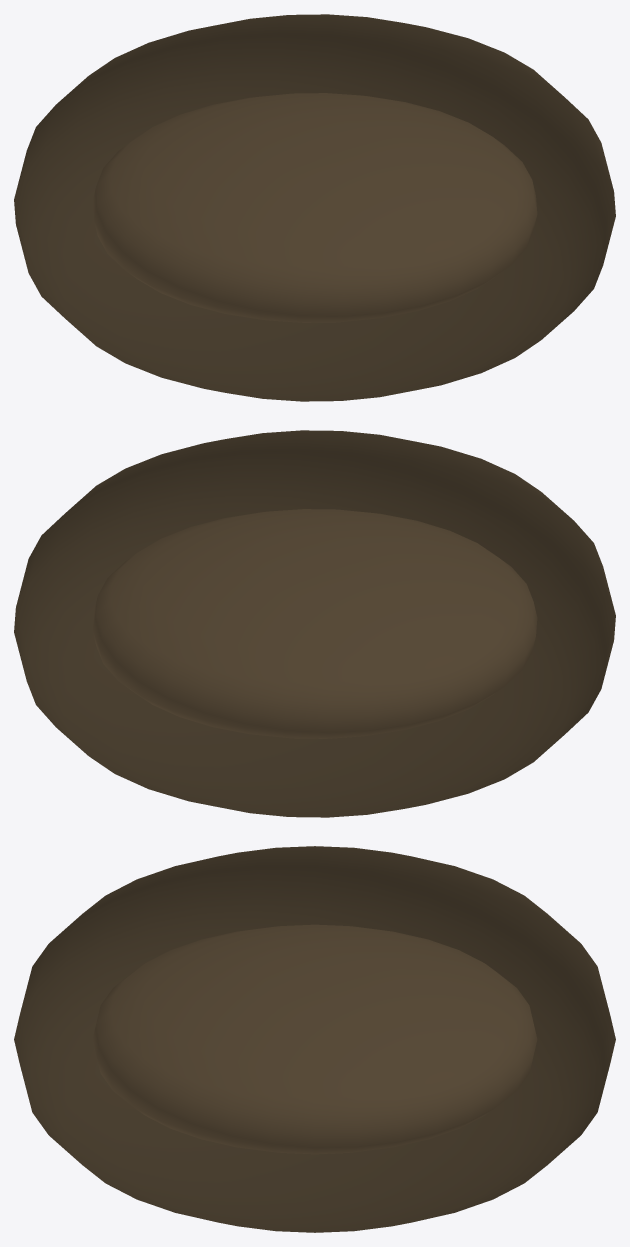
The model's file is spiderbody.glb.
3 views of the same model, one above another, from view 1: azimuth 30°, elevation 25°; view 2: azimuth 150°, elevation 25°; view 3: azimuth 270°, elevation 25° (orthographic).
Parts seen in each view (by area): view 1: Cylinder; view 2: Cylinder; view 3: Cylinder.
Boxes of the visible parts, left/top/right/bottom form: Cylinder: left=14, top=14, right=615, bottom=401; Cylinder: left=14, top=430, right=615, bottom=817; Cylinder: left=14, top=846, right=615, bottom=1232.
Bounding box in the file's own units: 0.261 × 0.1337 × 0.261.
1 material, 1 textured.
